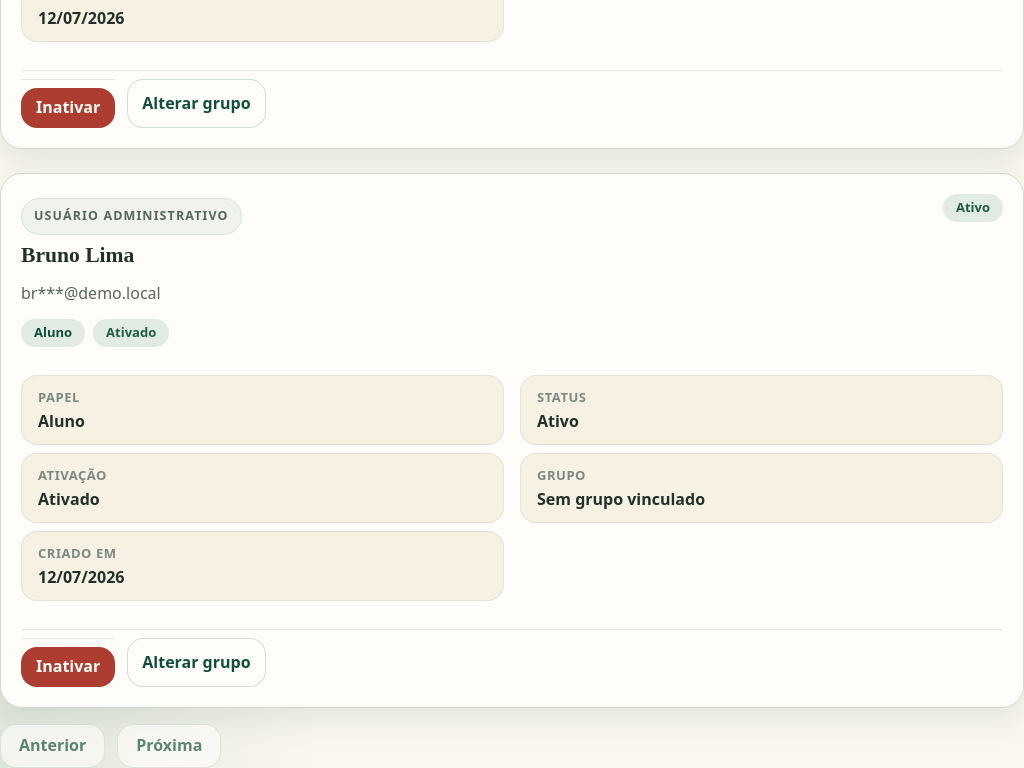
AdminUsersPage group actions › seleciona Sem grupo para usuário sem vínculo
(page scrolled)
Click the button with aria-label "Alterar grupo de Bruno Lima".
click(196, 662)  # box x1=127 y1=638 x2=266 y2=687
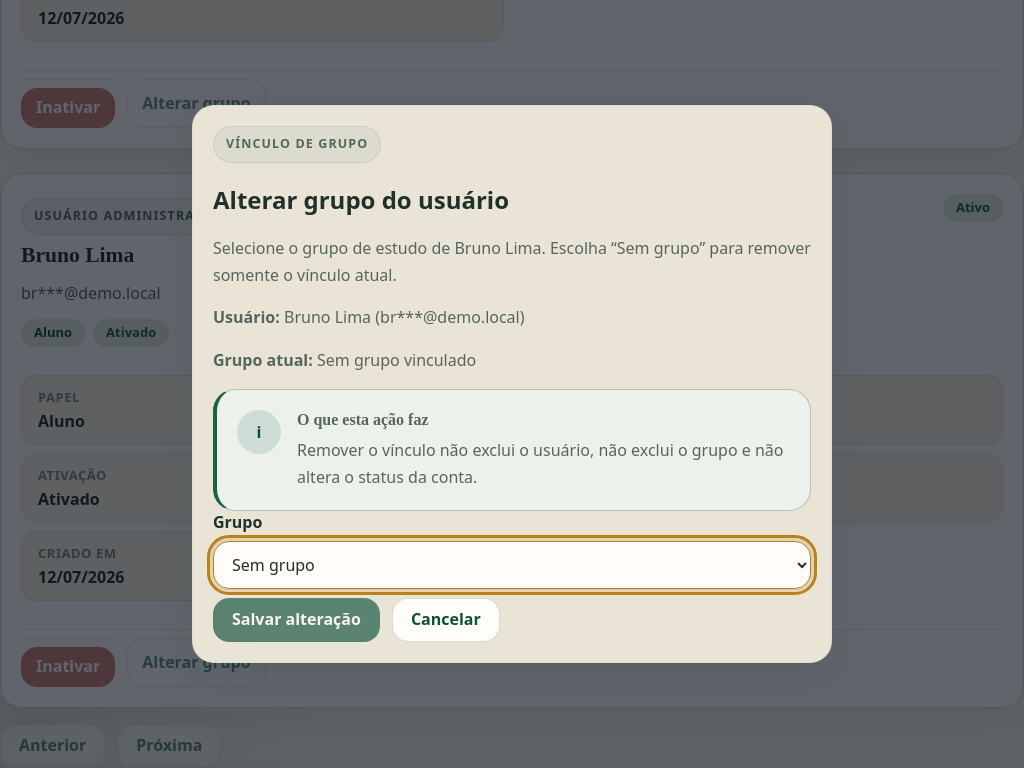
Check: the dialog "Alterar grupo do usuário" is shown
Check: the dropdown labelled "Grupo" shows "Sem grupo", box x1=213 y1=541 x2=811 y2=589
Check: the button "Salvar alteração" is disabled, box x1=213 y1=598 x2=380 y2=642
